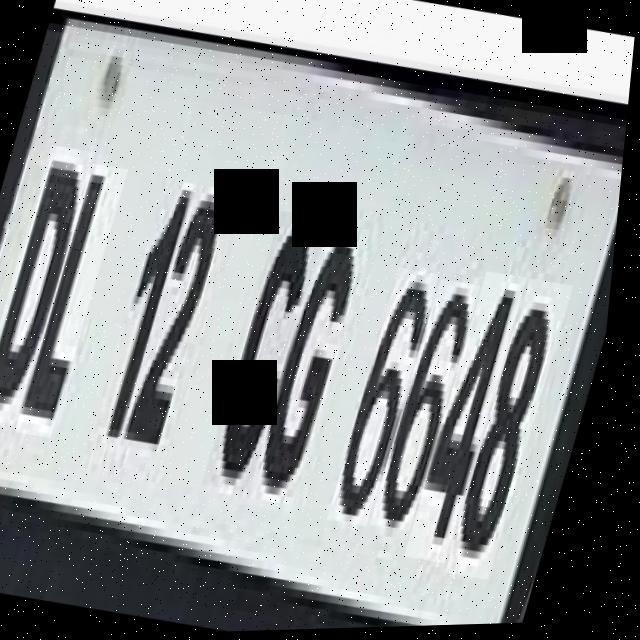1: (98, 174, 202, 451)
4: (415, 273, 533, 567)
6: (338, 270, 447, 530), (380, 282, 487, 537)
8: (456, 281, 580, 584)
C: (210, 212, 333, 497)
D: (0, 145, 97, 426)
G: (254, 225, 381, 520)
L: (23, 164, 132, 440)
